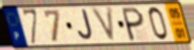0: (148, 6, 170, 41)
7: (21, 8, 40, 46), (43, 9, 63, 44)
J: (77, 8, 95, 42)
P: (122, 6, 146, 43)
V: (89, 5, 117, 45)
